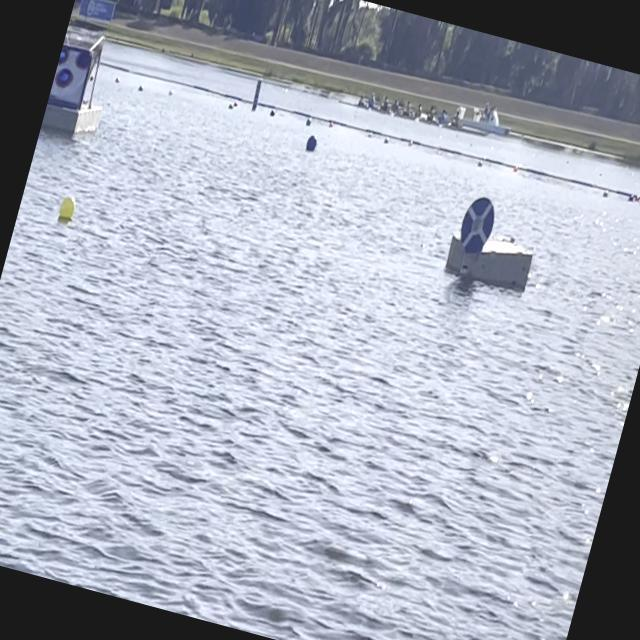buoy: (56, 192, 78, 222), (305, 132, 318, 150)
